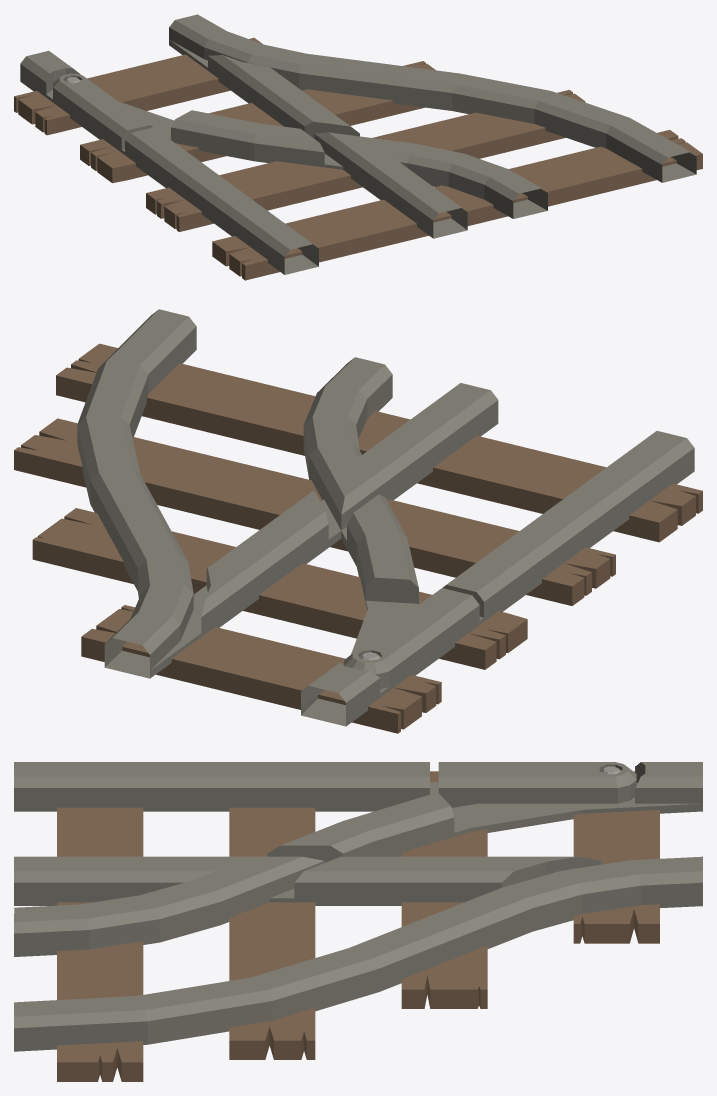
Rendered from Cave_Prop_Railway_Switch.obj.
3 renders of one model, top to bottom at view 1: azimuth 30°, elevation 25°; view 2: azimuth 150°, elevation 25°; view 3: azimuth 270°, elevation 25°, orthographic. The views are drawn at different scales.
Parts seen in each view (by area): view 1: object7, object4, object6, object2, object5, object3; view 2: object7, object4, object6, object5, object2, object3; view 3: object7, object6, object4, object3, object2, object5.
Boxes of the visible parts, box(x1,y1,x2,y2) form: object7: box(20, 14, 696, 274); object4: box(212, 130, 702, 280); object6: box(146, 90, 585, 231); object2: box(14, 37, 262, 135); object5: box(80, 61, 435, 183); object3: box(53, 73, 152, 149); object7: box(77, 309, 694, 726); object4: box(56, 343, 702, 542); object6: box(14, 418, 615, 605); object5: box(32, 508, 527, 669); object2: box(81, 605, 441, 733); object3: box(344, 588, 479, 689); object7: box(14, 762, 702, 1051); object6: box(229, 807, 315, 1059); object4: box(57, 807, 143, 1081); object3: box(438, 762, 636, 803); object2: box(573, 771, 659, 943); object5: box(401, 771, 487, 1008).
Bounding box in the file's own units: 2 × 0.15 × 2.
